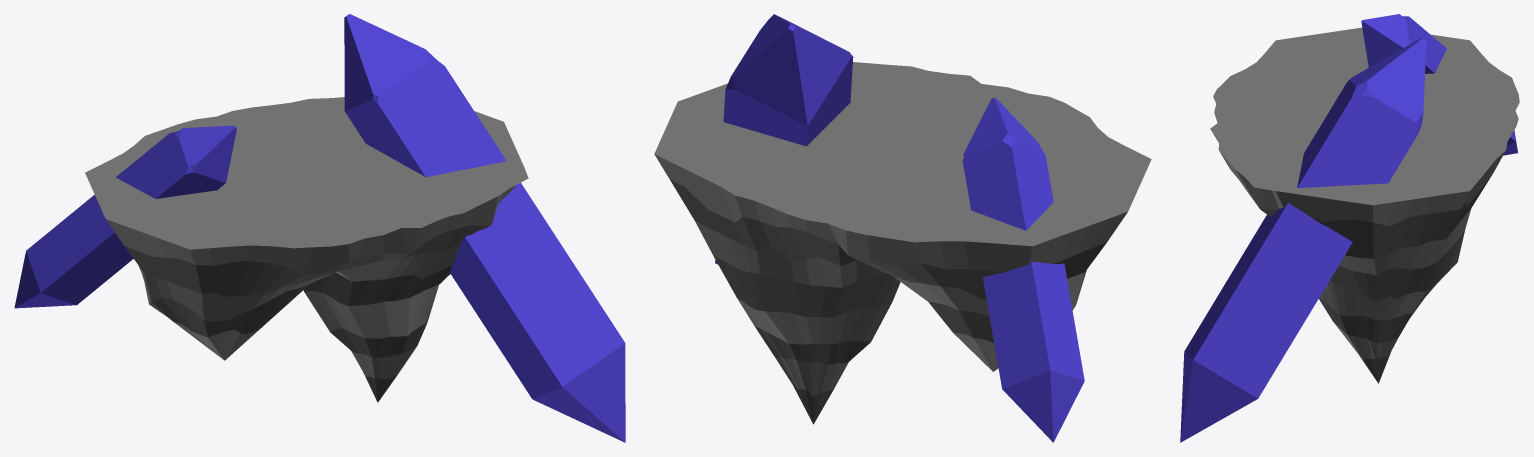
Rendered from island_nonplayable2.fbx.
3 views of the same model, side by side, from view 1: azimuth 30°, elevation 25°; view 2: azimuth 150°, elevation 25°; view 3: azimuth 270°, elevation 25° (orthographic). The views are drawn at different scales.
Parts seen in each view (by area): view 1: island_nonplayable2_rocks, island_nonplayable2_crystals.; view 2: island_nonplayable2_rocks, island_nonplayable2_crystals.; view 3: island_nonplayable2_rocks, island_nonplayable2_crystals..
Boxes of the visible parts, box(x1,y1,x2,y2) form: island_nonplayable2_rocks: box(85, 97, 528, 402); island_nonplayable2_crystals.: box(14, 14, 625, 442); island_nonplayable2_rocks: box(654, 62, 1151, 424); island_nonplayable2_crystals.: box(715, 14, 1084, 442); island_nonplayable2_rocks: box(1210, 27, 1519, 383); island_nonplayable2_crystals.: box(1180, 14, 1517, 442).
Bounding box in the file's own units: 11148 × 8992 × 8058.
